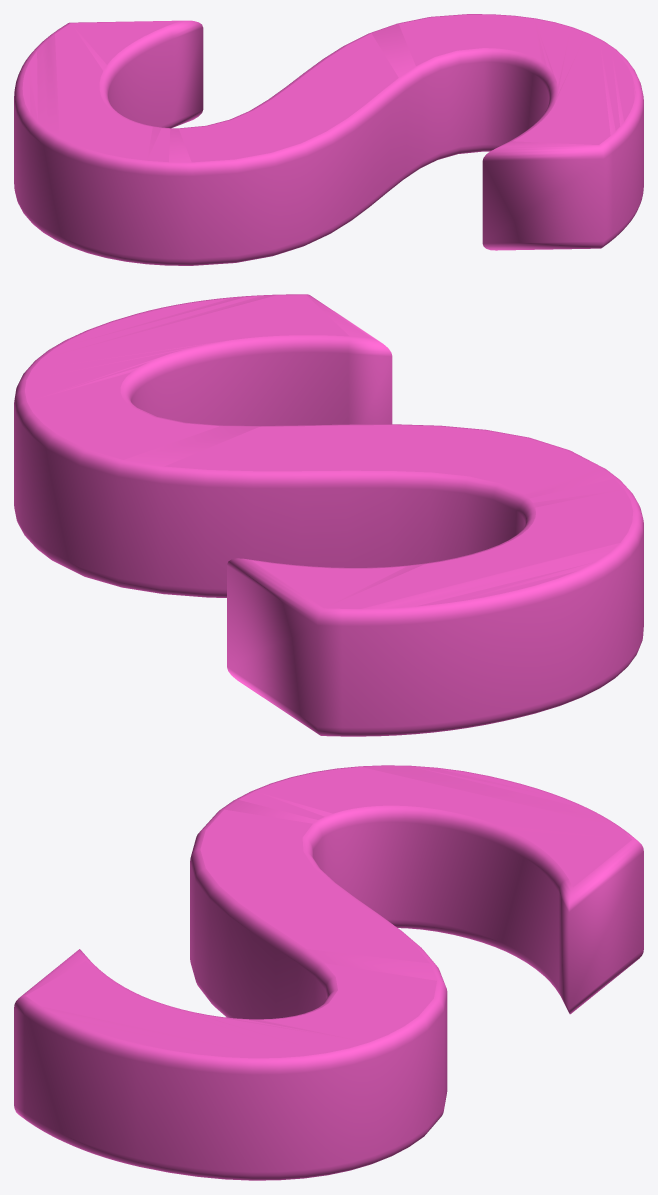
Rendered from ToyObject_234.fbx.
3 renders of one model, top to bottom at view 1: azimuth 30°, elevation 25°; view 2: azimuth 150°, elevation 25°; view 3: azimuth 270°, elevation 25°, orthographic. The views are drawn at different scales.
Visible parts, largest first — view 1: Object.094; view 2: Object.094; view 3: Object.094.
Boxes of the visible parts, box(x1,y1,x2,y2) form: Object.094: box(14, 14, 643, 265); Object.094: box(14, 294, 643, 736); Object.094: box(14, 765, 643, 1180).
Size of the model in its own units: 0.1848 by 0.0348 by 0.1634.
